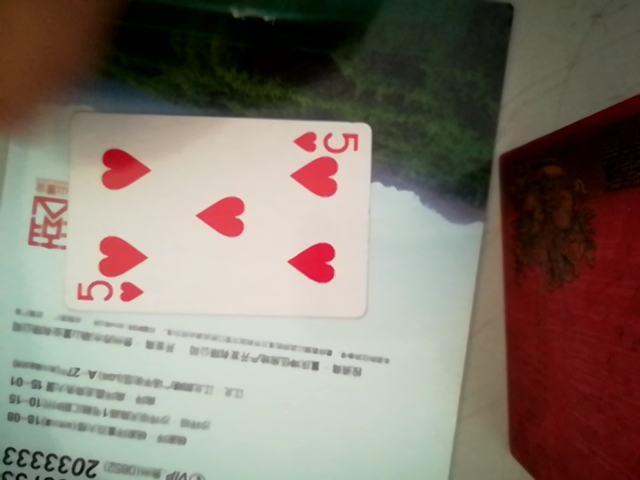hx 5: (38, 110, 383, 324)
